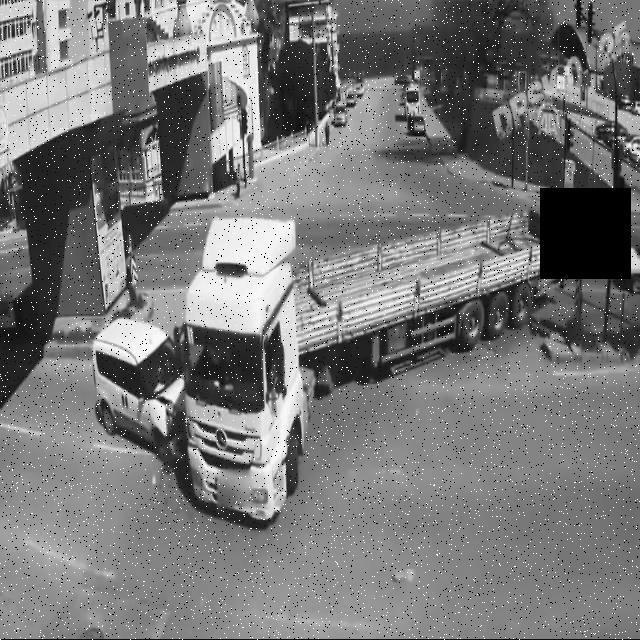accident: (89, 204, 574, 533)
vehicle: (408, 114, 427, 138), (405, 90, 422, 113), (334, 104, 346, 128), (347, 91, 357, 107)
